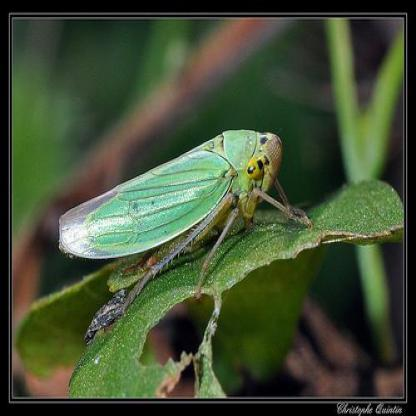Green-Leafhopper: (59, 127, 314, 334)
